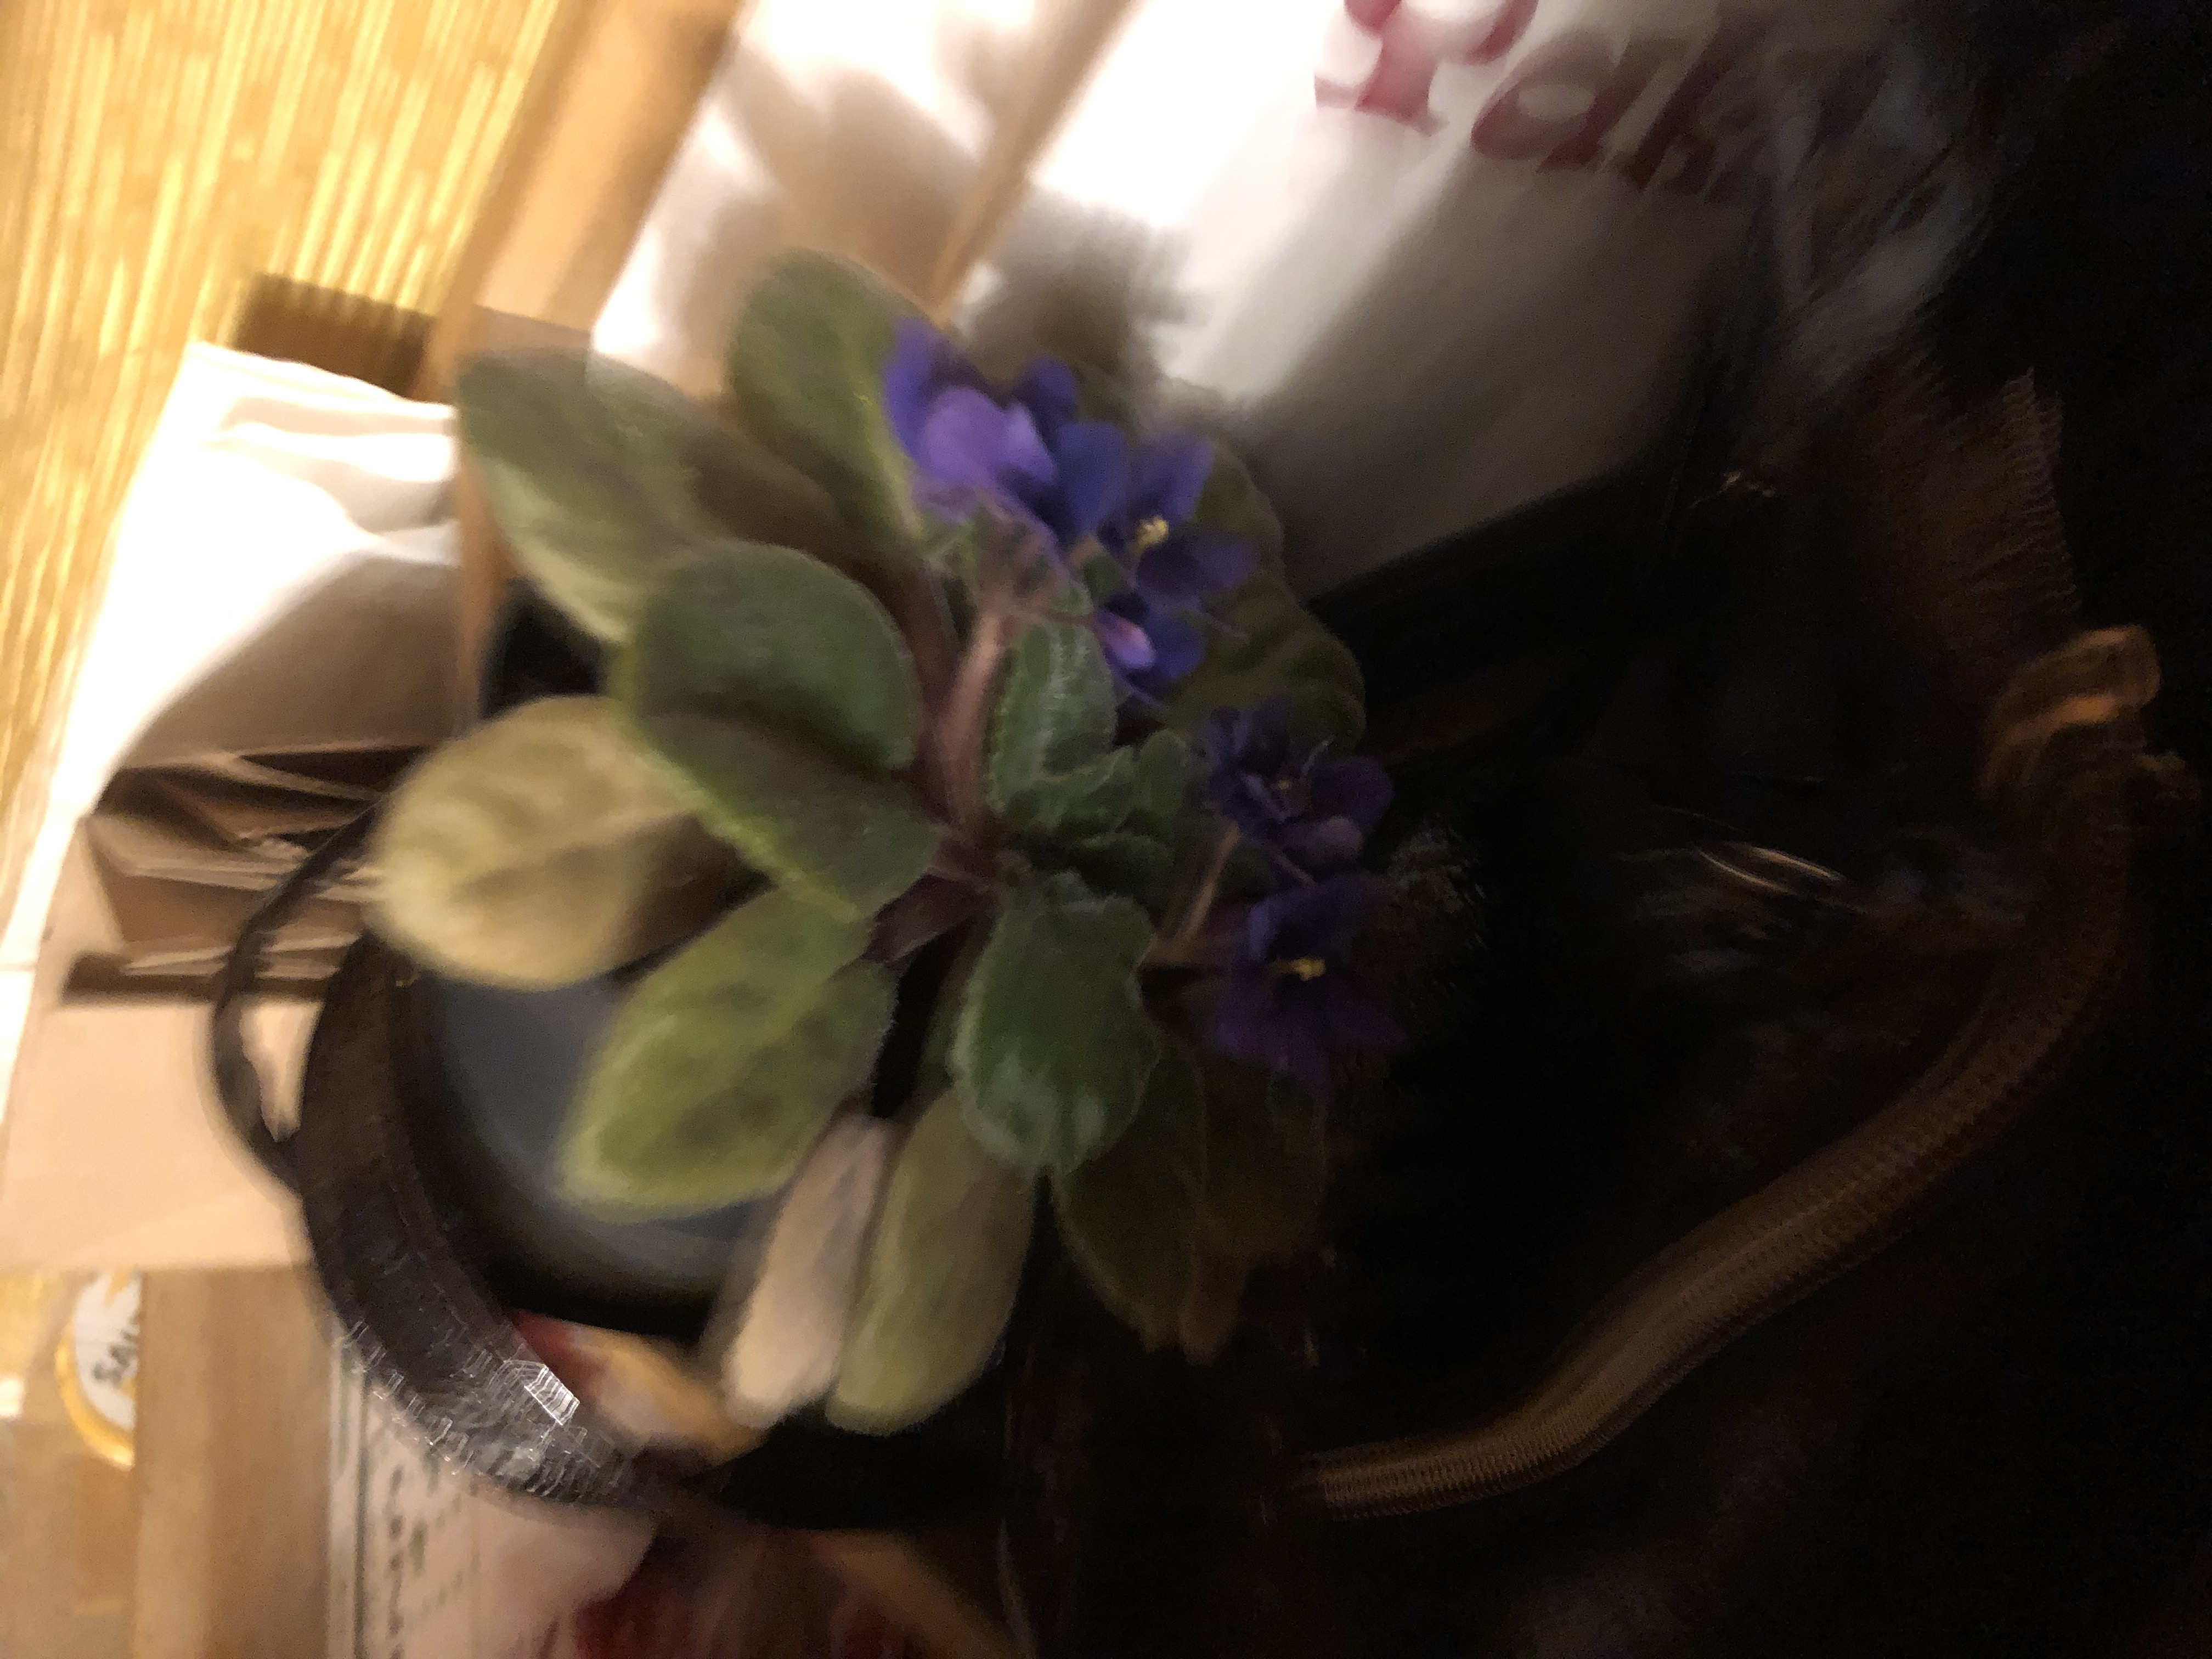ignore: (374, 246, 1449, 1434)
